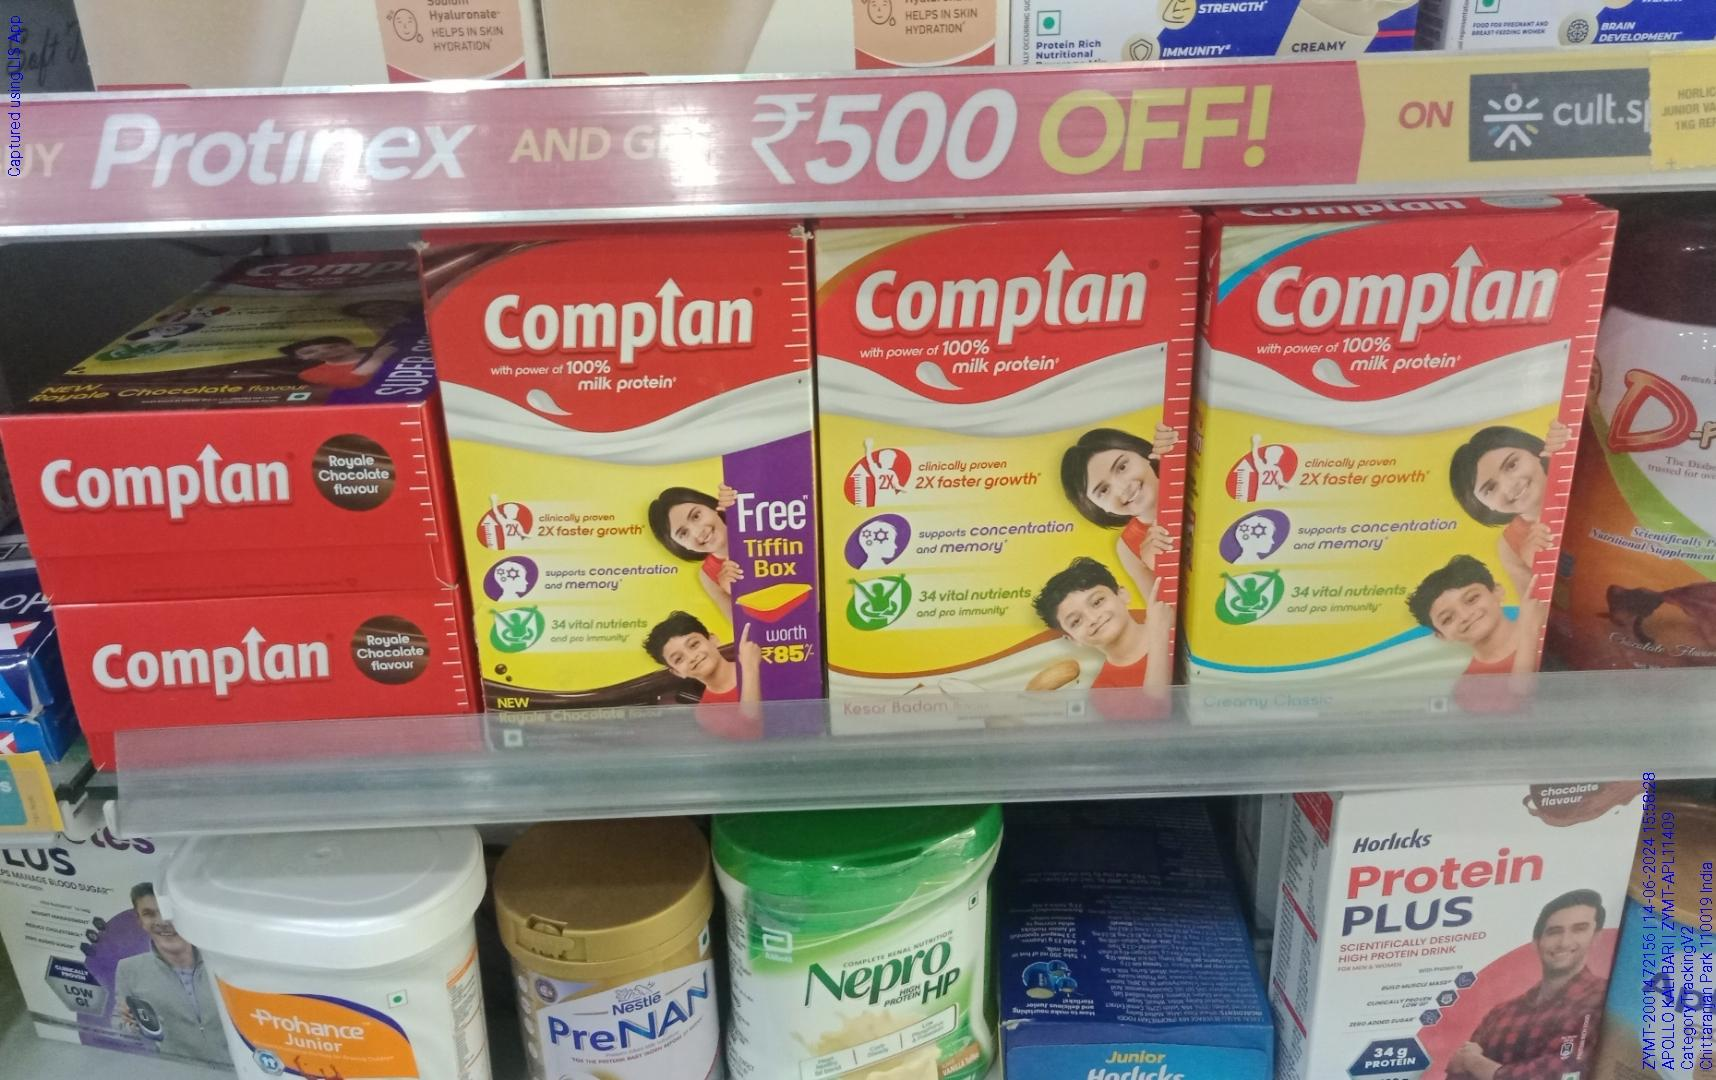COMPLAN_CHOCOLATE_500_GMS_PACK: (467, 243, 806, 750)
COMPLAN_CREAMY_CLASSIC_500_G_PACK: (1215, 200, 1575, 725)
COMPLAN_KESAR_BADAM_500_GMS_PACK: (829, 224, 1171, 720)
